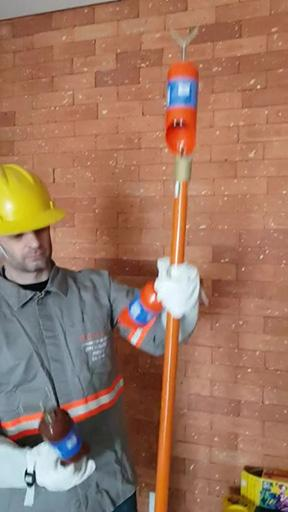Detector_Tensao_Contato: (164, 27, 200, 155)
Vara_Manobra: (152, 155, 190, 512)
